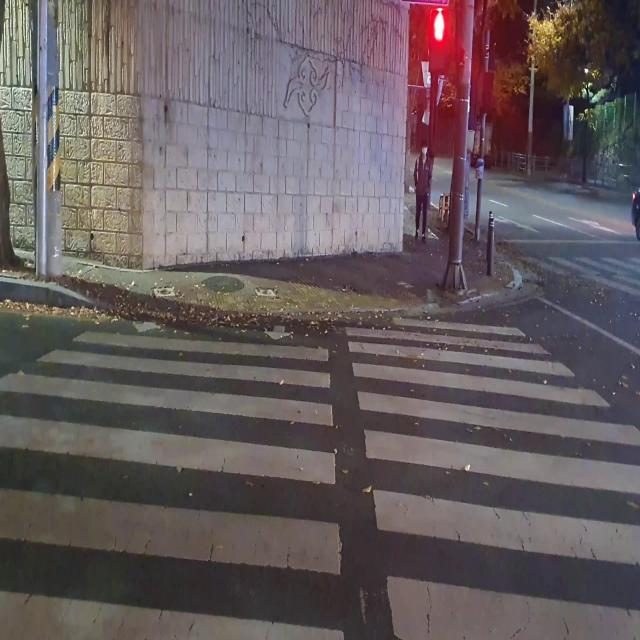crosswalk: (1, 315, 640, 640)
